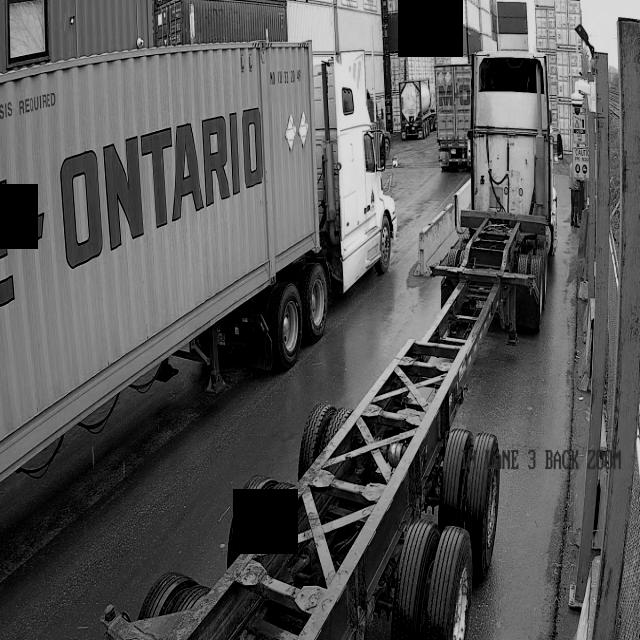truck_with_container: (0, 40, 398, 481)
truck_without_container: (102, 50, 563, 640)
